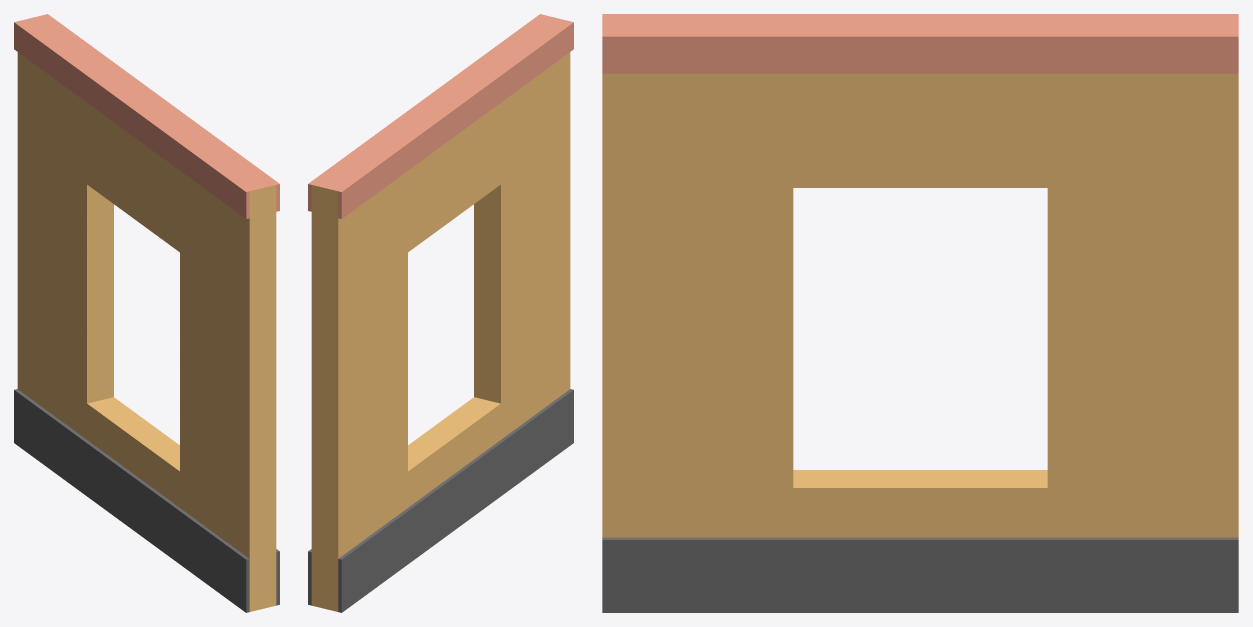
File: Wall04.fbx
The picture shows the model from 3 angles, left to right: view 1: azimuth 30°, elevation 25°; view 2: azimuth 150°, elevation 25°; view 3: azimuth 270°, elevation 25°; orthographic projection. The views are drawn at different scales.
Parts seen in each view (by area): view 1: Wall04; view 2: Wall04; view 3: Wall04.
Boxes of the visible parts, x1,y1,x2,y2 form: Wall04: (14, 14, 279, 612); Wall04: (308, 14, 573, 612); Wall04: (602, 14, 1238, 612).
Bounding box in the file's own units: 0.2519 × 3 × 3.
